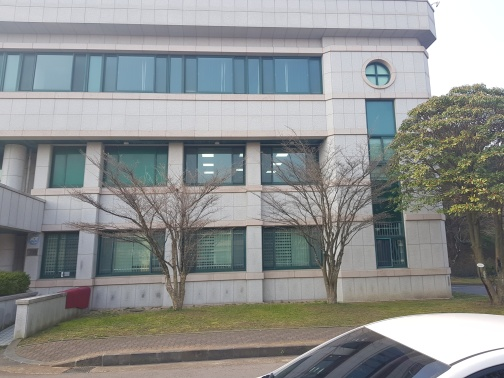Information Telecommunication Center: (1, 9, 455, 297)
